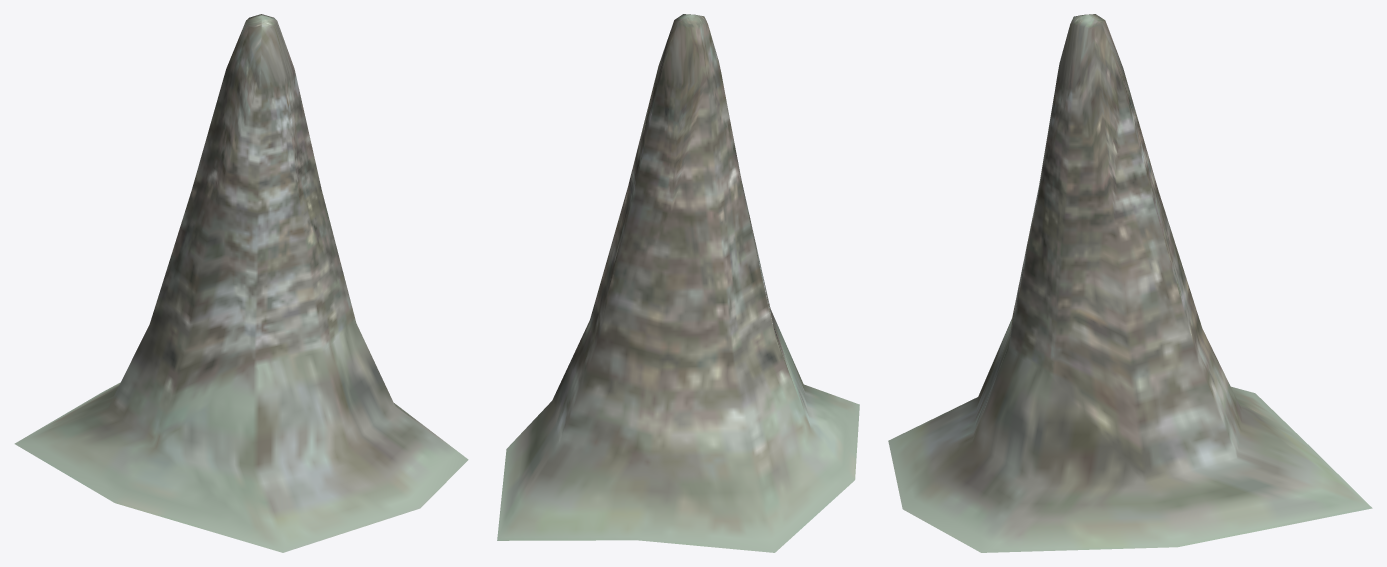
Rendered from TROLLHOLE02_PS-MAINSTALAG47.fbx.
The picture shows the model from 3 angles, left to right: view 1: azimuth 30°, elevation 25°; view 2: azimuth 150°, elevation 25°; view 3: azimuth 270°, elevation 25°; orthographic projection. The views are drawn at different scales.
Parts seen in each view (by area): view 1: TROLLHOLE02_PS-MAINSTALAG47; view 2: TROLLHOLE02_PS-MAINSTALAG47; view 3: TROLLHOLE02_PS-MAINSTALAG47.
Boxes of the visible parts, x1,y1,x2,y2 form: TROLLHOLE02_PS-MAINSTALAG47: [14, 14, 468, 552]; TROLLHOLE02_PS-MAINSTALAG47: [497, 14, 859, 552]; TROLLHOLE02_PS-MAINSTALAG47: [888, 14, 1372, 552].
Bounding box in the file's own units: 23165 × 30822 × 29194.
Materials: 1 (1 with a texture image).
